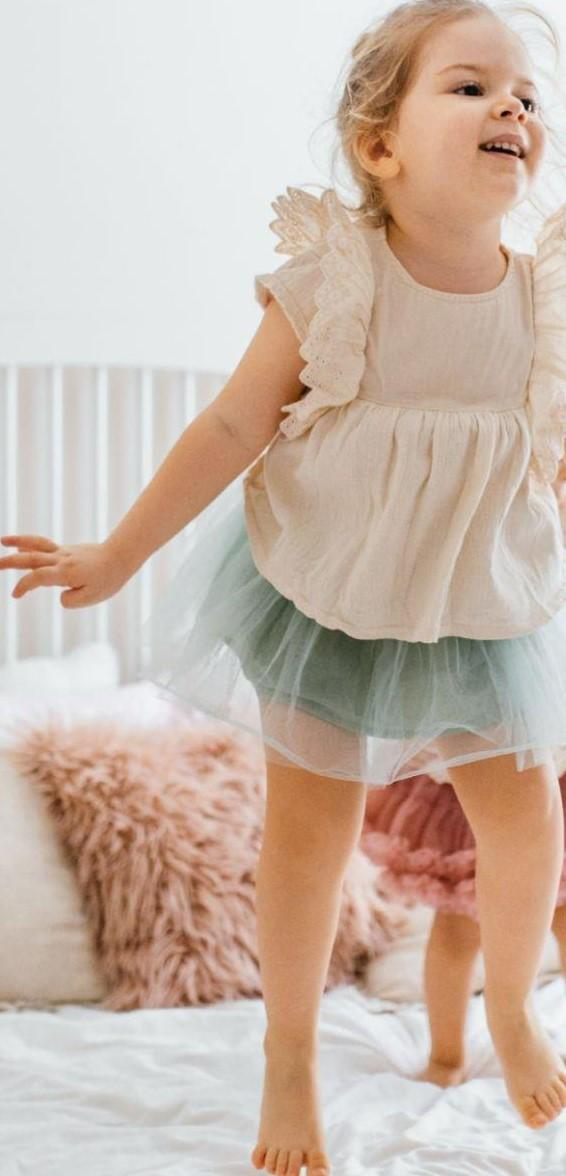Healthy: (368, 1, 562, 288)
